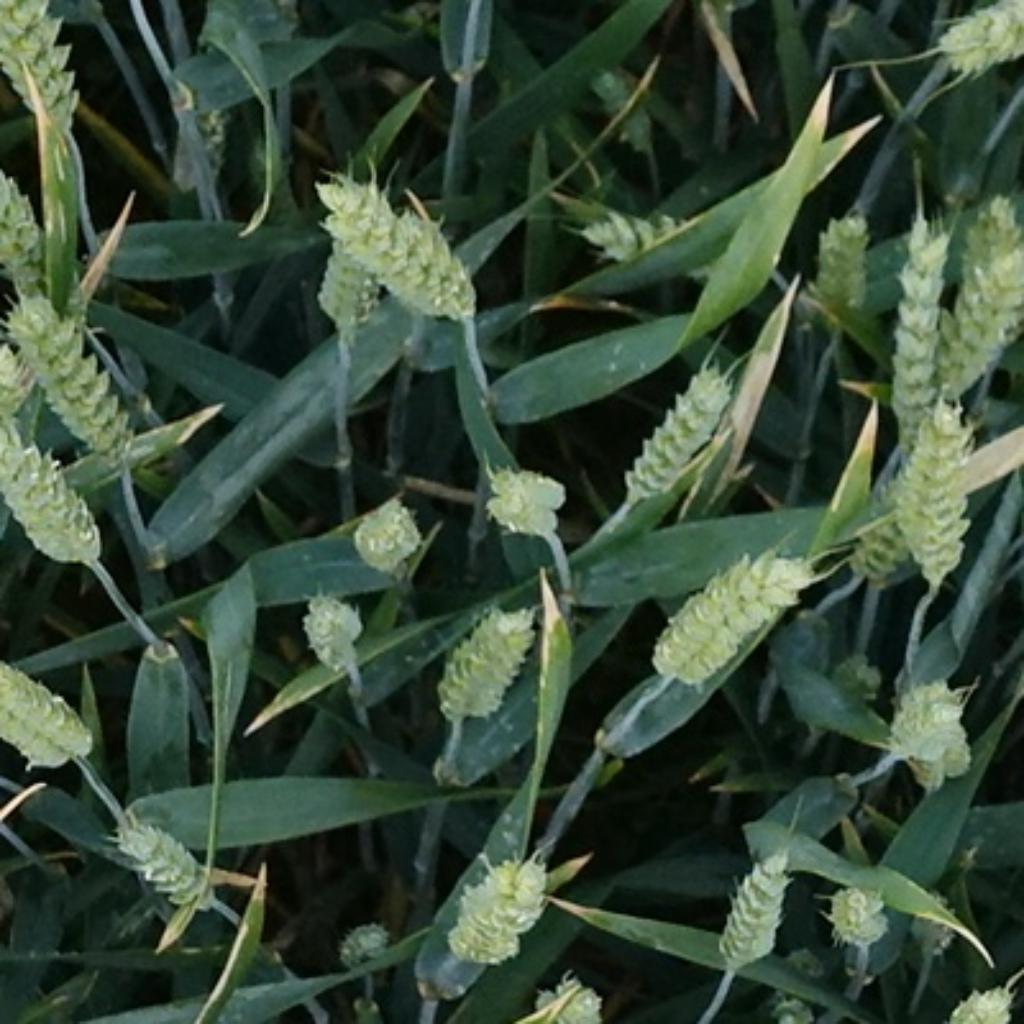0-0: (307, 169, 476, 322), (645, 537, 814, 688), (11, 277, 147, 459), (604, 343, 747, 506), (899, 402, 997, 603), (878, 217, 952, 448), (441, 841, 564, 972), (427, 592, 542, 723), (2, 448, 112, 570), (103, 803, 221, 916), (950, 241, 1024, 421), (875, 676, 980, 794), (839, 461, 927, 600), (706, 837, 796, 967), (2, 660, 102, 775), (2, 2, 74, 145), (573, 58, 669, 163), (294, 581, 377, 679), (803, 202, 875, 314), (309, 242, 384, 348), (570, 204, 693, 267), (476, 460, 568, 542), (924, 2, 1024, 76), (341, 493, 428, 578), (952, 178, 1023, 280), (817, 643, 896, 719), (2, 171, 60, 273), (821, 870, 896, 944), (522, 962, 609, 1024), (0, 345, 55, 439), (930, 970, 1022, 1024), (332, 916, 399, 977), (757, 972, 824, 1024)
